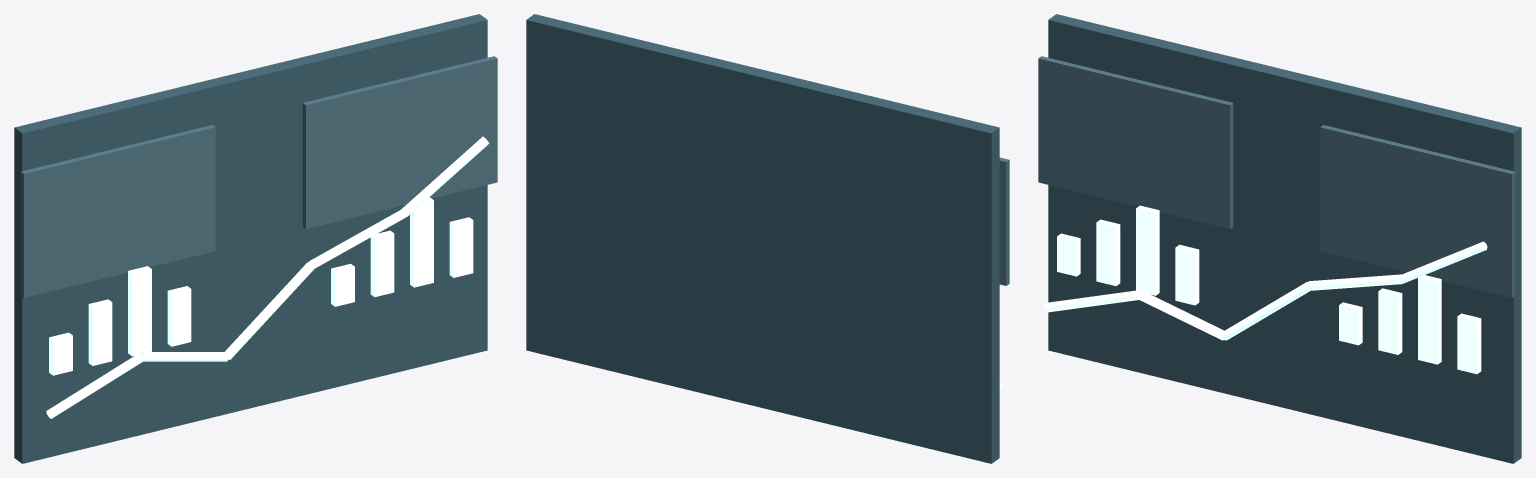
The model's file is plan_05.glb.
3 renders of one model, left to right at view 1: azimuth 30°, elevation 25°; view 2: azimuth 150°, elevation 25°; view 3: azimuth 330°, elevation 25°, orthographic.
Visible parts, largest first — view 1: analytics_board, chart-0.5, chart0.5, chartbar-0.5_2, chartbar0.5_2, chartbar-0.5_1, chartbar0.5_1, chartbar-0.5_3, chartbar0.5_3, trend_2, trend_4, trend_0 (+4 smaller); view 2: analytics_board, chart-0.5; view 3: analytics_board, chart-0.5, chart0.5, chartbar0.5_2, chartbar-0.5_2, chartbar0.5_1, chartbar-0.5_1, chartbar-0.5_3, chartbar0.5_3, trend_2, trend_0, trend_3 (+4 smaller).
Boxes of the visible parts, bbox=[...] form: analytics_board: bbox=[14, 14, 487, 463]; chart-0.5: bbox=[20, 125, 215, 297]; chart0.5: bbox=[302, 56, 497, 228]; chartbar-0.5_2: bbox=[128, 266, 151, 356]; chartbar0.5_2: bbox=[410, 197, 433, 287]; chartbar-0.5_1: bbox=[88, 299, 112, 365]; chartbar0.5_1: bbox=[370, 230, 394, 297]; chartbar-0.5_3: bbox=[167, 286, 191, 346]; chartbar0.5_3: bbox=[449, 217, 473, 277]; trend_2: bbox=[225, 262, 314, 359]; trend_4: bbox=[401, 136, 489, 216]; trend_0: bbox=[46, 353, 144, 418]; analytics_board: bbox=[526, 14, 999, 463]; chart-0.5: bbox=[999, 157, 1009, 285]; analytics_board: bbox=[1048, 14, 1521, 463]; chart-0.5: bbox=[1038, 56, 1233, 228]; chart0.5: bbox=[1320, 125, 1515, 297]; chartbar0.5_2: bbox=[1418, 275, 1441, 364]; chartbar-0.5_2: bbox=[1136, 205, 1159, 295]; chartbar0.5_1: bbox=[1378, 288, 1402, 354]; chartbar-0.5_1: bbox=[1096, 219, 1120, 285]; chartbar-0.5_3: bbox=[1175, 244, 1199, 305]; chartbar0.5_3: bbox=[1457, 313, 1481, 374]; trend_2: bbox=[1222, 282, 1309, 340]; trend_0: bbox=[1044, 290, 1140, 312]; trend_3: bbox=[1306, 274, 1402, 290].
Size of the model in its own units: 1.82 by 1.21 by 0.1624.
